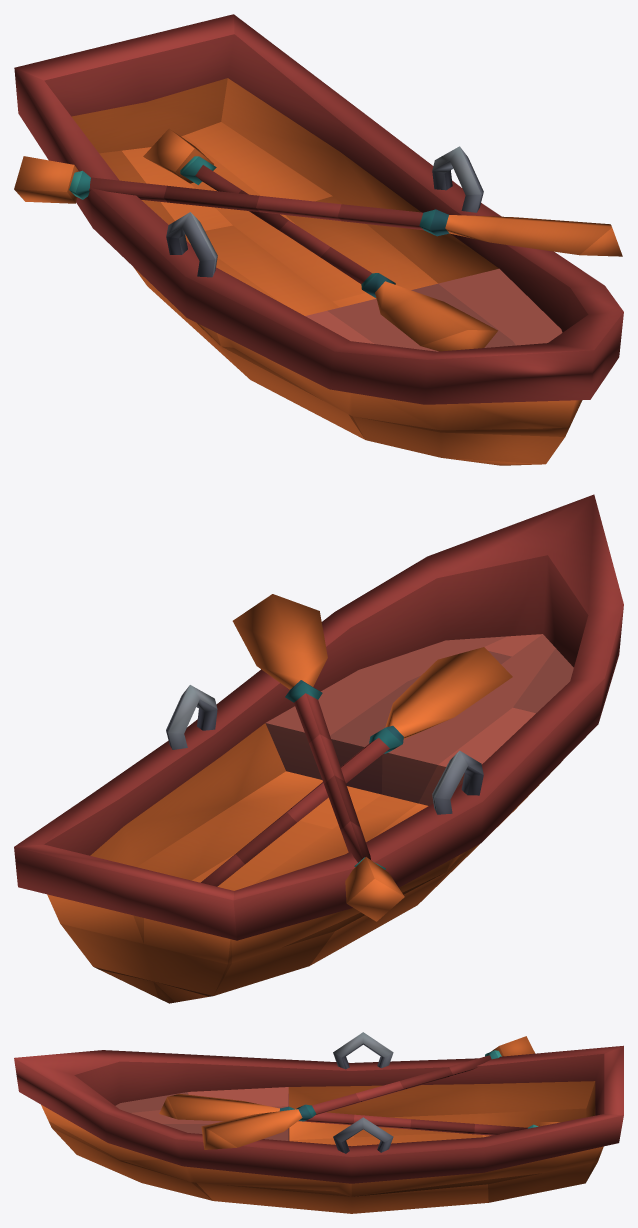
The model's file is boat.glb.
3 renders of one model, top to bottom at view 1: azimuth 30°, elevation 25°; view 2: azimuth 150°, elevation 25°; view 3: azimuth 270°, elevation 25°, orthographic. The views are drawn at different scales.
Visible parts, largest first — view 1: boat; view 2: boat; view 3: boat.
Boxes of the visible parts, x1,y1,x2,y2 form: boat: (14,14,623,465); boat: (14,494,623,1003); boat: (14,1032,623,1213).
Bounding box in the file's own units: 1.24 × 0.6849 × 2.62.
Materials: 1 (1 with a texture image).
